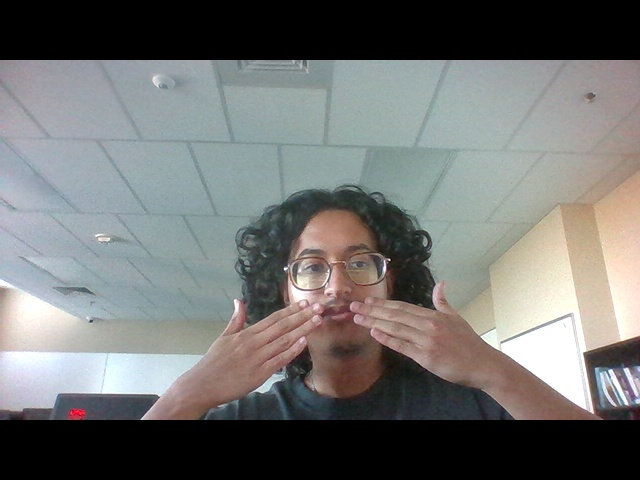thanks: (174, 281, 513, 410)
